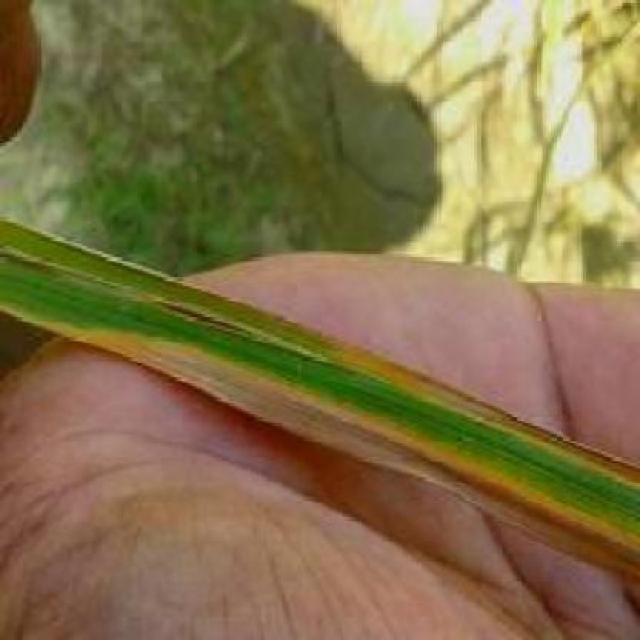Brown_Spot: (1, 199, 579, 558), (578, 208, 639, 582)
